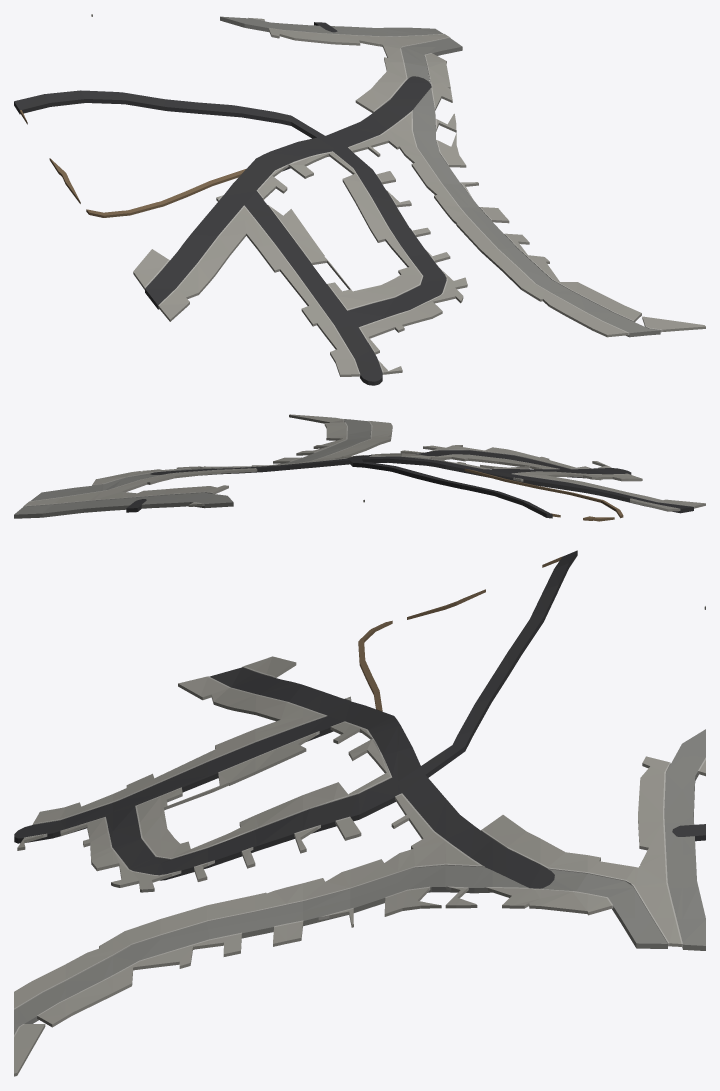
The picture shows the model from 3 angles, top to bottom: view 1: azimuth 30°, elevation 25°; view 2: azimuth 150°, elevation 25°; view 3: azimuth 270°, elevation 25°; orthographic projection. The views are drawn at different scales.
Size of the model in its own units: 147 by 59.63 by 146.
